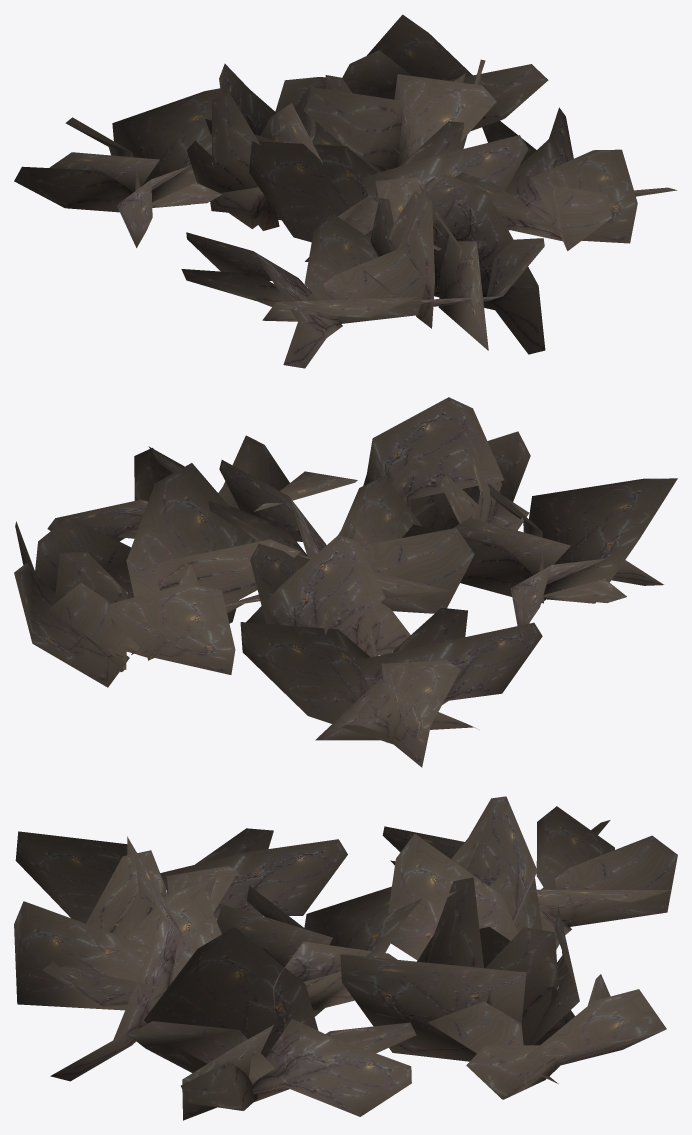
Rendered from Bush_Group_2.fbx.
3 views of the same model, one above another, from view 1: azimuth 30°, elevation 25°; view 2: azimuth 150°, elevation 25°; view 3: azimuth 270°, elevation 25° (orthographic). The views are drawn at different scales.
Parts seen in each view (by area): view 1: Bush_Group_2; view 2: Bush_Group_2; view 3: Bush_Group_2.
Part boxes in pixels (x1,y1,x2,y2): Bush_Group_2: (14,14,677,368); Bush_Group_2: (14,397,677,767); Bush_Group_2: (14,796,677,1120).
Size of the model in its own units: 3.32 by 1.2 by 3.32.
